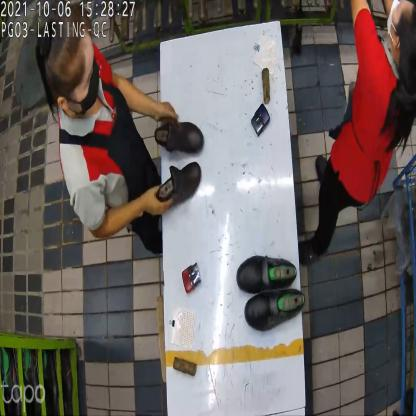shoes: (236, 252, 306, 332), (153, 116, 205, 209)
stamp: (181, 261, 202, 295), (252, 101, 271, 137)
